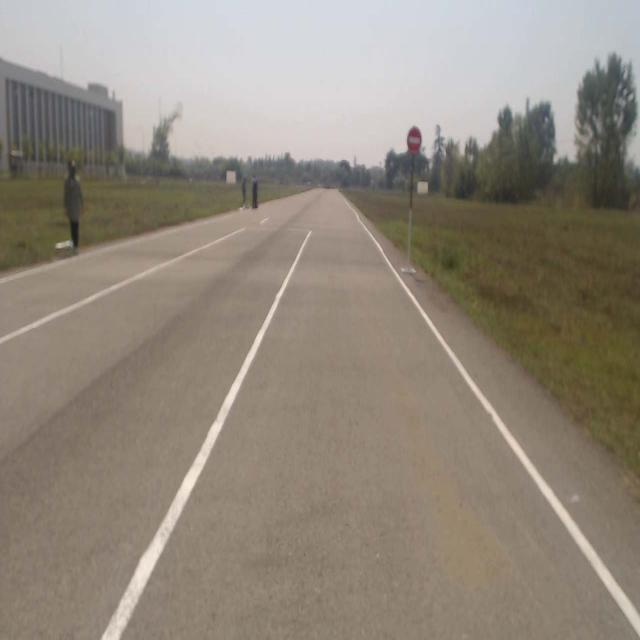girisyok: (408, 127, 422, 153)
